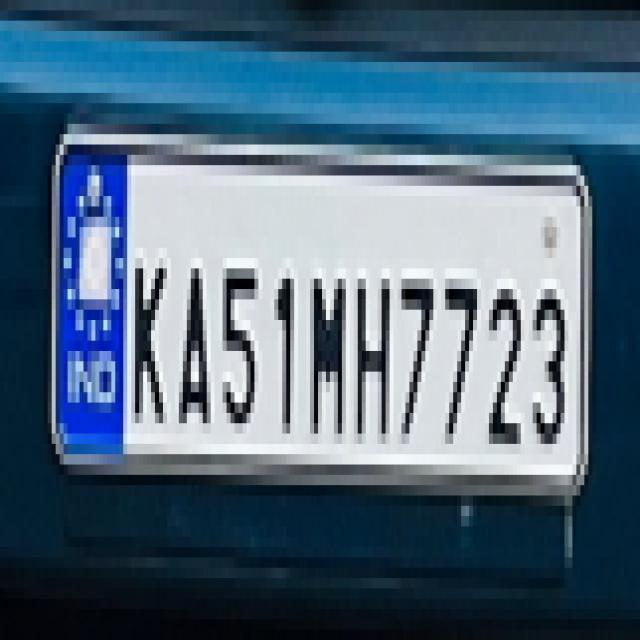1: (270, 264, 296, 442)
3: (530, 277, 568, 455)
5: (219, 250, 261, 432)
7: (438, 265, 481, 447), (397, 256, 435, 442)
A: (176, 257, 213, 439)
H: (352, 262, 392, 459)
K: (126, 240, 170, 438)
M: (307, 265, 349, 448)
